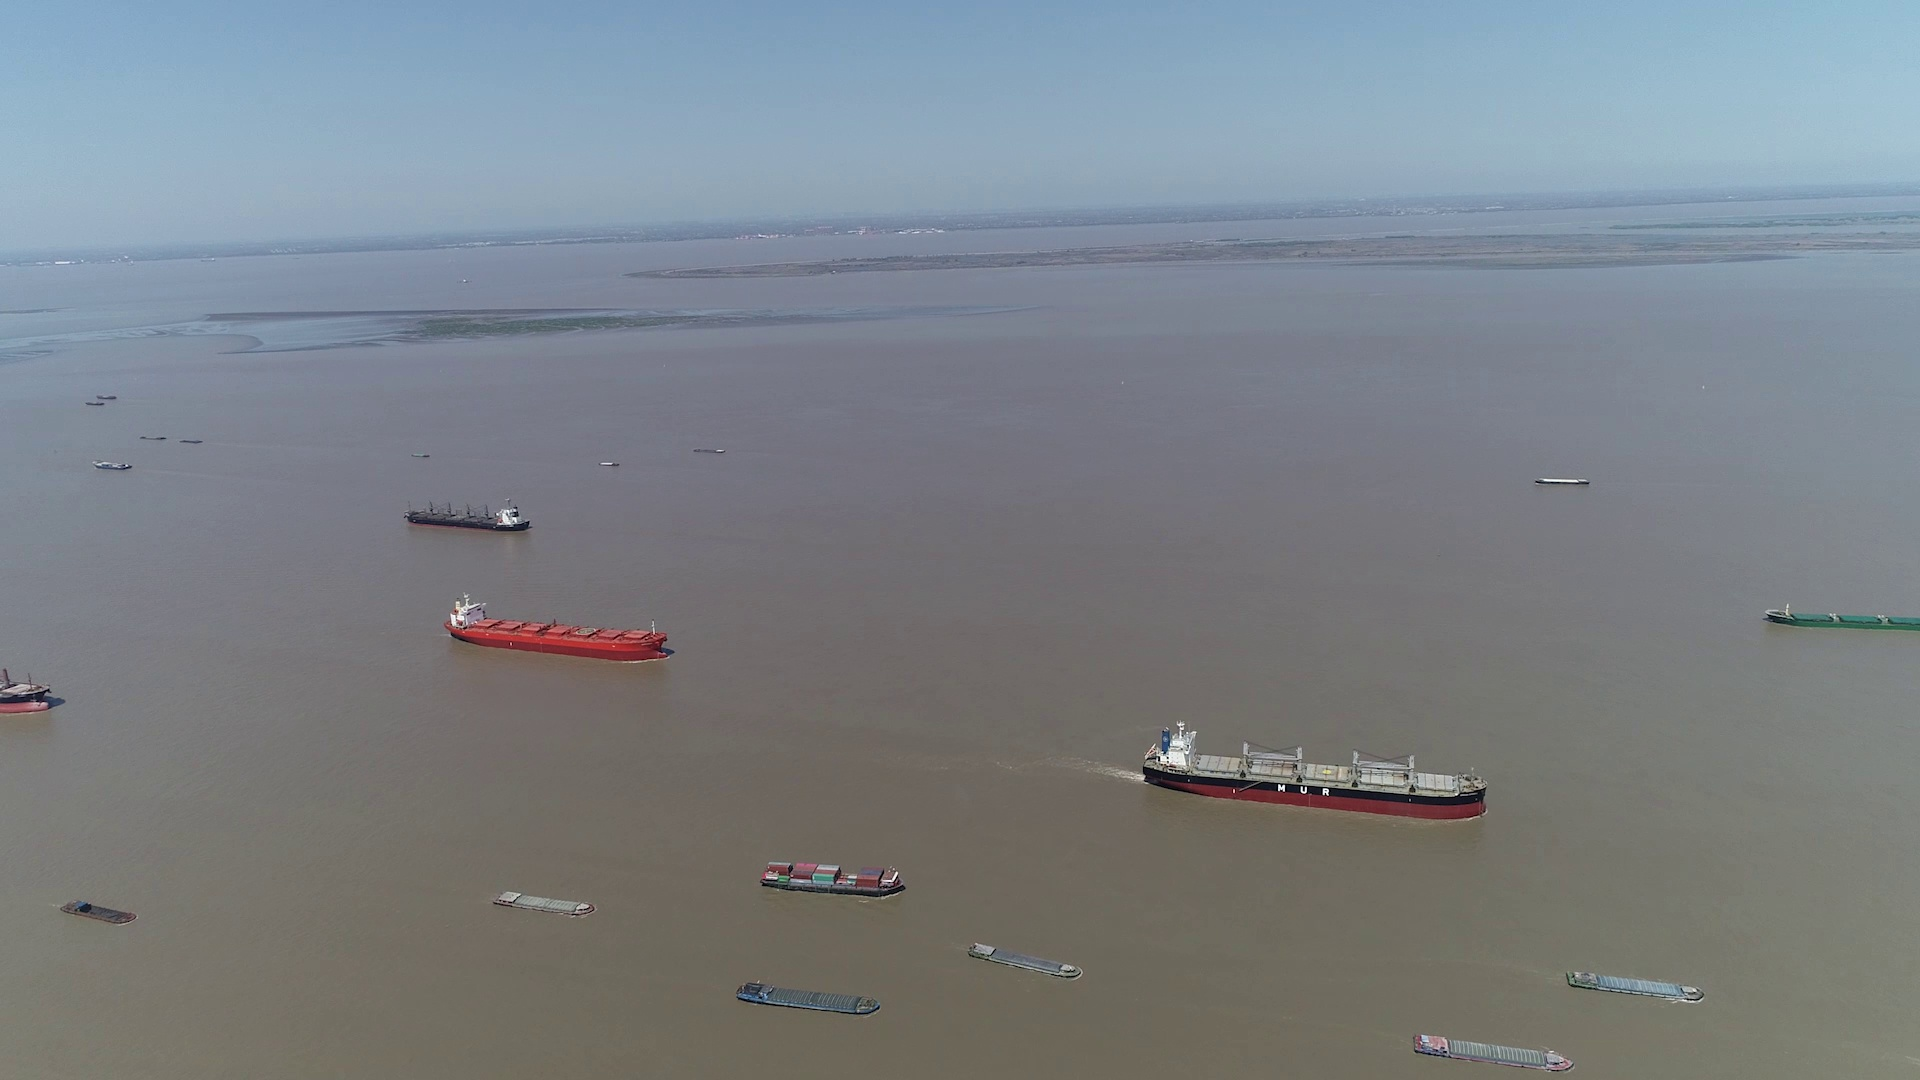ship: (1141, 720, 1486, 818), (450, 593, 667, 662), (1414, 1034, 1569, 1071), (733, 980, 881, 1017), (760, 861, 905, 898), (967, 942, 1087, 981), (1568, 971, 1705, 1004), (1764, 603, 1920, 632), (404, 498, 531, 531), (0, 655, 57, 716), (493, 889, 596, 915), (61, 899, 135, 924), (1534, 476, 1590, 485), (96, 459, 132, 469), (690, 447, 728, 454)
